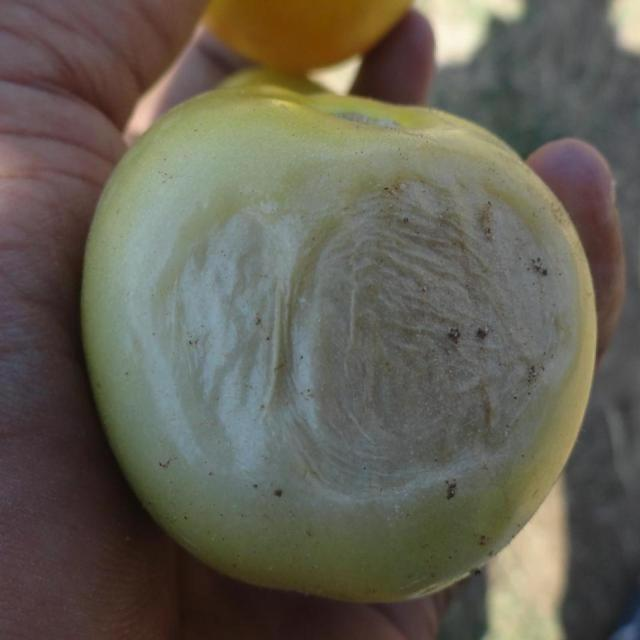Sunscald Fruit: (109, 98, 379, 358)
